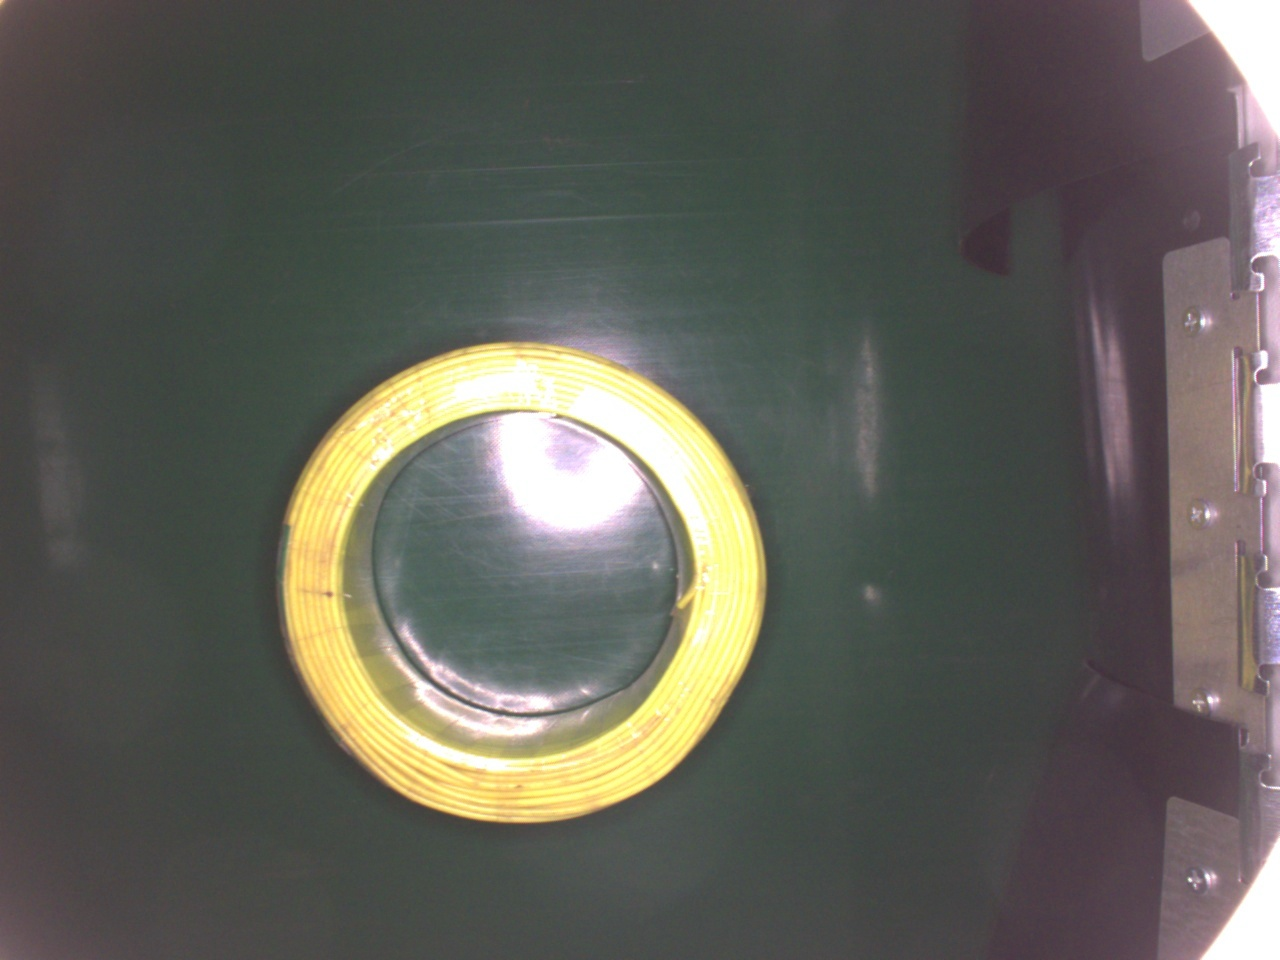yellow: (277, 340, 768, 831)
